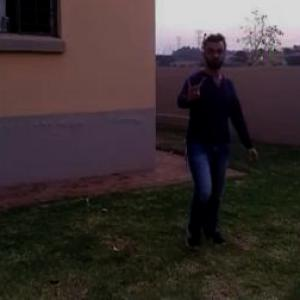takeoff-hand: (180, 68, 210, 103)
